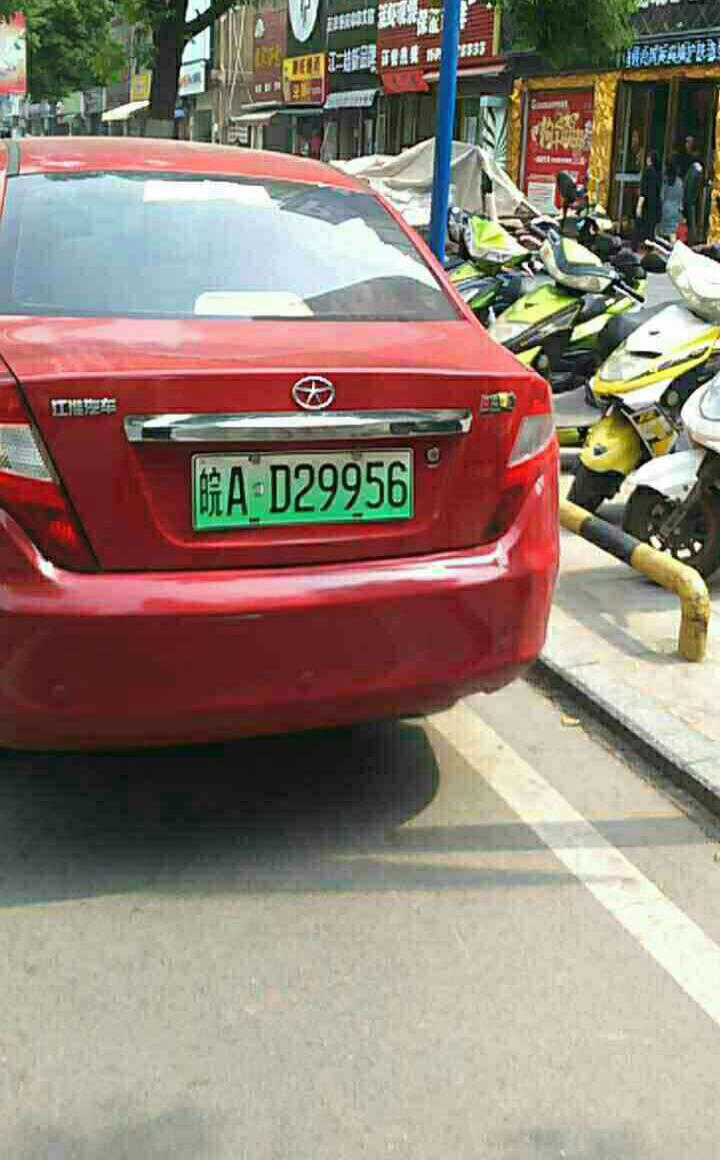car: (186, 449, 428, 534)
